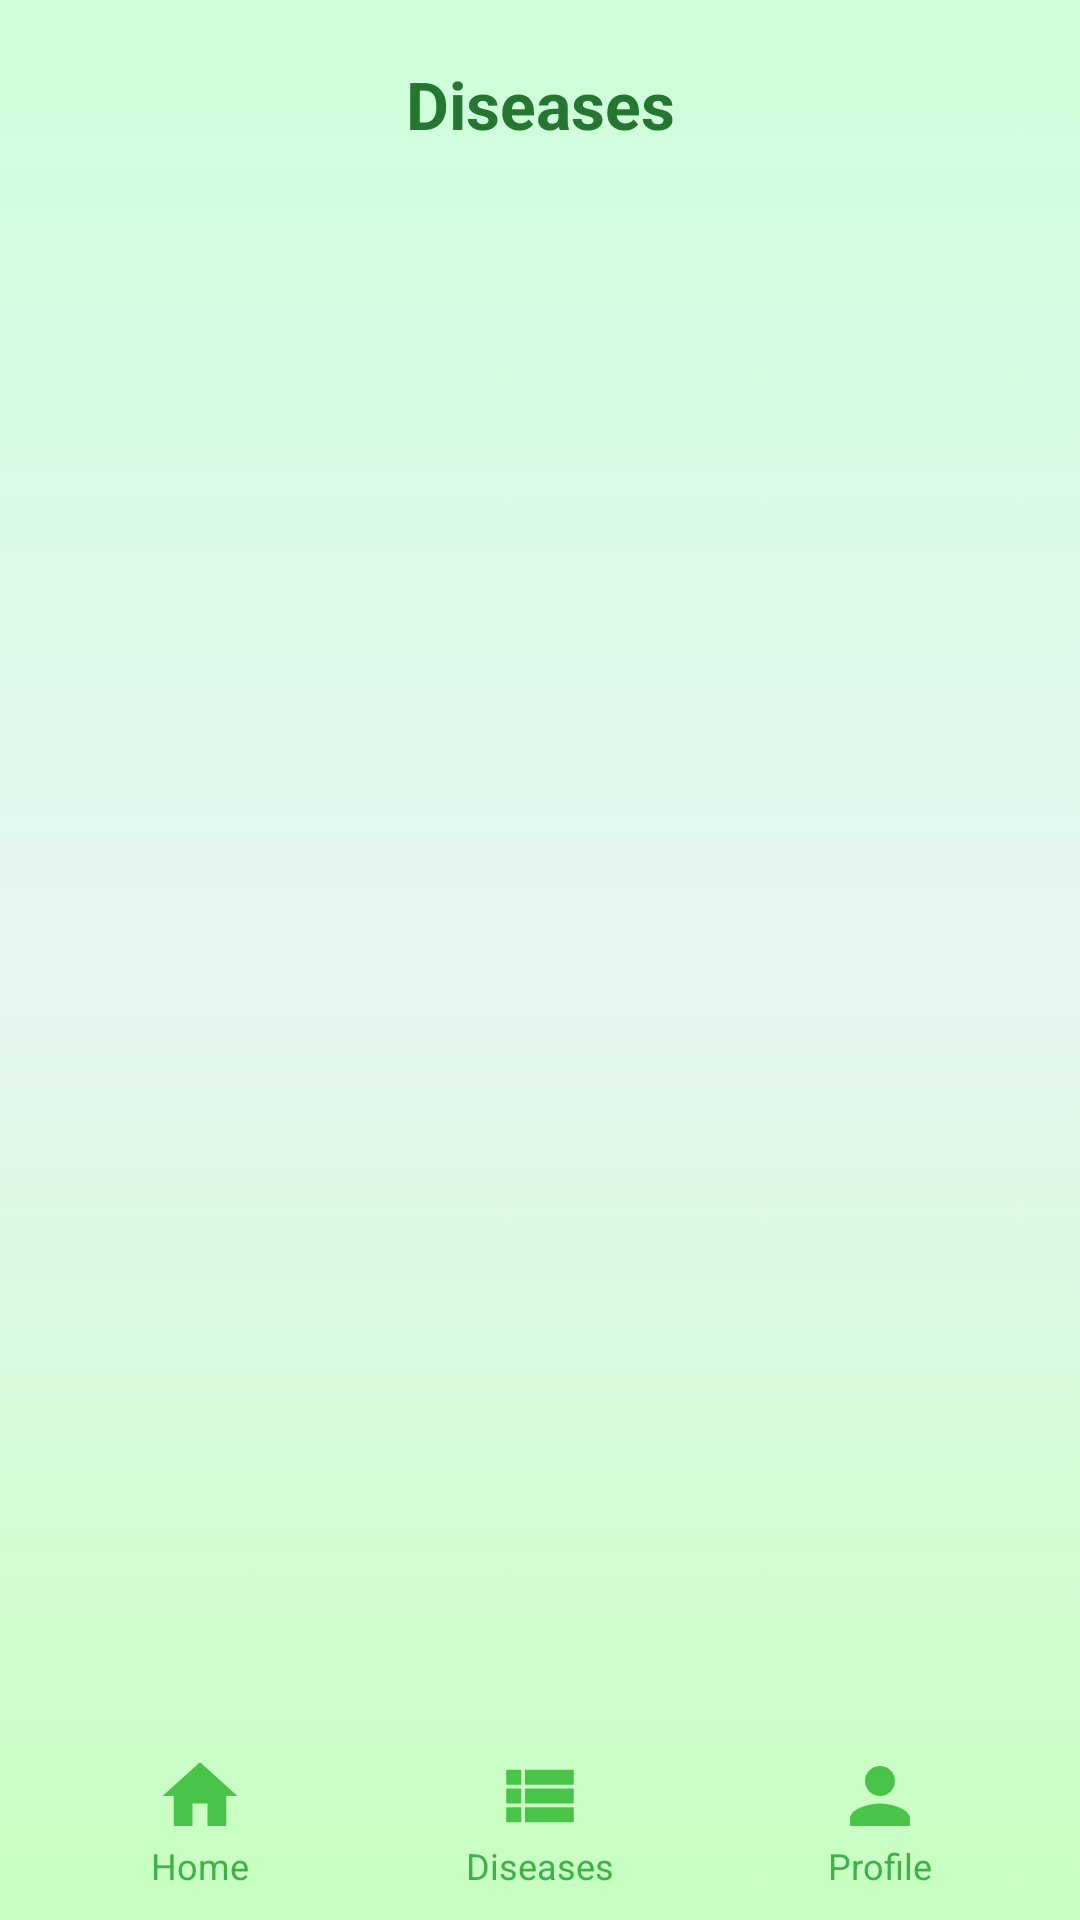

Screen size 1080x1920. Icon name, then its box in pixels as (x1, y1, x2, y2):
person: (850, 1766, 910, 1826)
view list: (506, 1769, 574, 1823)
